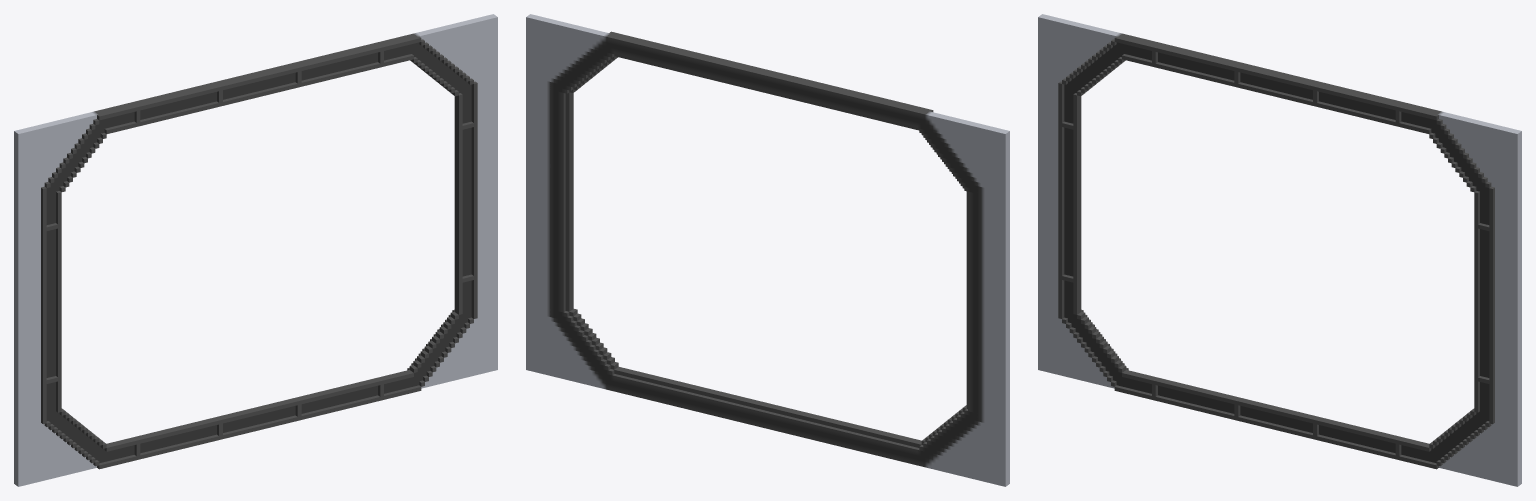
Rendered from DoorFrame_Octagon.obj.
3 views of the same model, side by side, from view 1: azimuth 30°, elevation 25°; view 2: azimuth 150°, elevation 25°; view 3: azimuth 330°, elevation 25° (orthographic).
Parts seen in each view (by area): view 1: DoorFrame_Octagon; view 2: DoorFrame_Octagon; view 3: DoorFrame_Octagon.
Boxes of the visible parts, box(x1,y1,x2,y2) form: DoorFrame_Octagon: box(14, 14, 497, 486); DoorFrame_Octagon: box(526, 14, 1009, 486); DoorFrame_Octagon: box(1038, 14, 1521, 486).
Size of the model in its own units: 128 by 90 by 3.
1 material, 1 textured.
